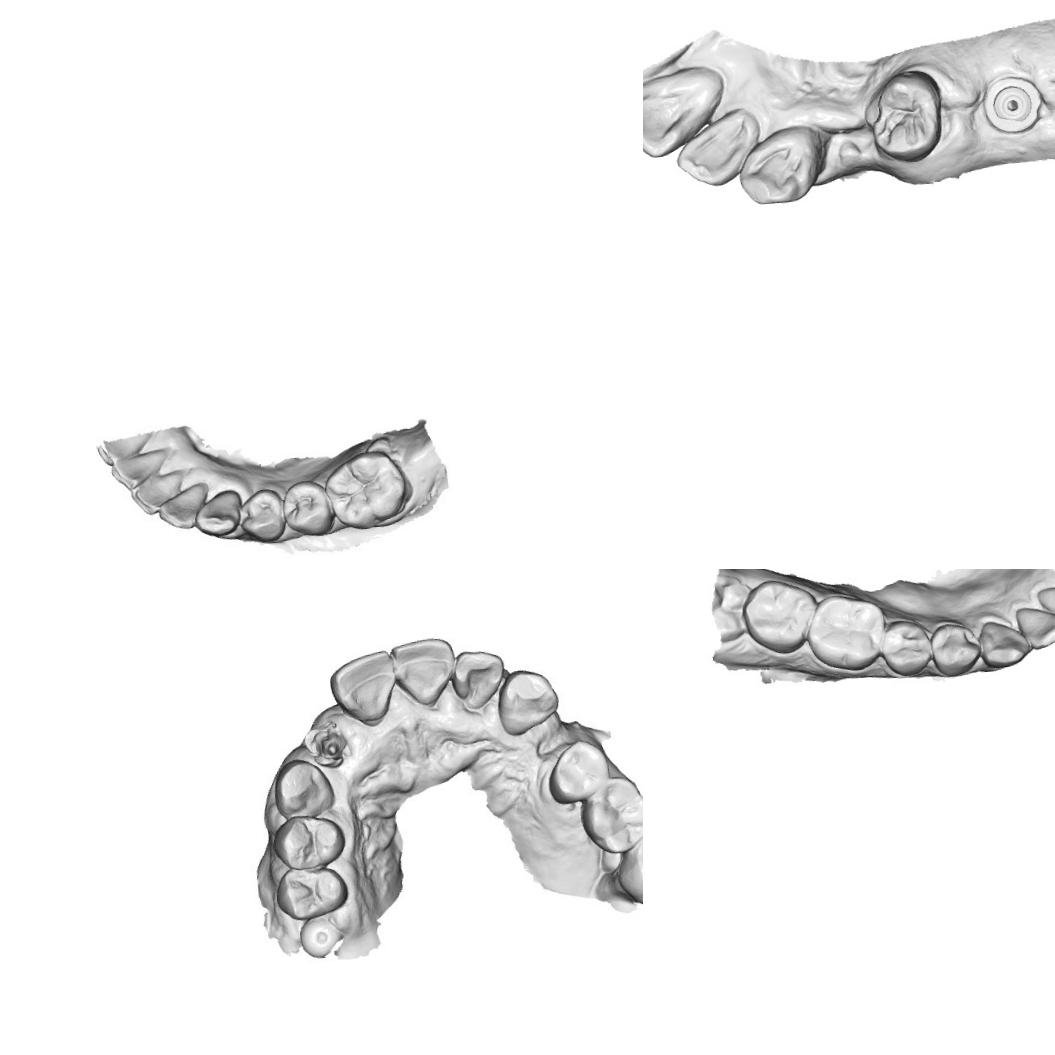canine: (733, 120, 828, 212), (492, 662, 563, 736), (269, 753, 334, 824), (976, 616, 1032, 671), (193, 487, 243, 540)
implant: (980, 71, 1042, 134), (314, 725, 353, 767)
incisor: (643, 60, 727, 163), (672, 106, 764, 192), (331, 653, 398, 724), (391, 638, 454, 701), (455, 648, 504, 708), (1011, 600, 1055, 652), (161, 482, 210, 526), (132, 470, 181, 510), (112, 446, 161, 484), (1033, 582, 1055, 630)
molar: (802, 589, 889, 675), (737, 574, 820, 658), (324, 448, 409, 530), (578, 768, 643, 854), (613, 819, 643, 912)
premolar: (856, 65, 950, 164), (543, 737, 606, 804), (277, 812, 344, 869), (276, 866, 344, 917), (878, 616, 933, 678), (928, 619, 982, 678), (236, 486, 288, 544), (284, 483, 332, 539)
